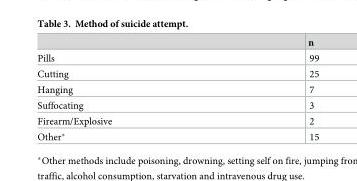table: (36, 37, 318, 142)
table column: (36, 37, 209, 142), (209, 37, 318, 142)
table column header: (36, 37, 318, 49)
table row: (36, 49, 318, 65), (36, 65, 318, 81), (36, 81, 318, 97), (36, 97, 318, 113), (36, 113, 318, 128), (36, 128, 318, 142), (36, 37, 318, 49)
